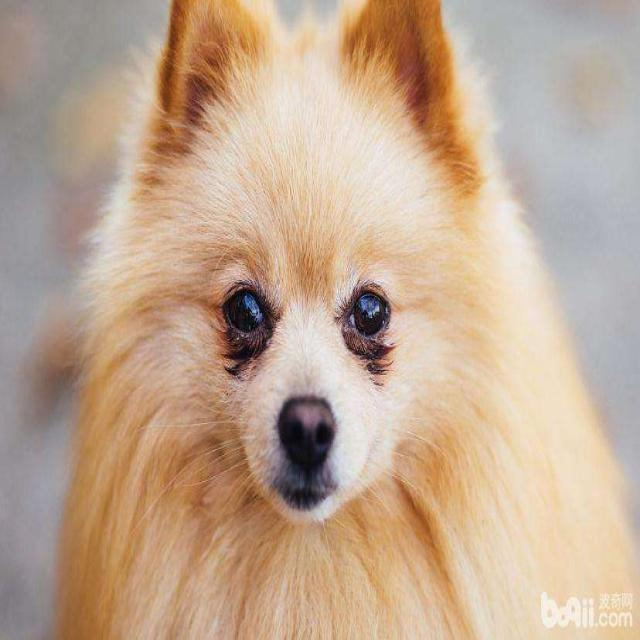eye: (339, 279, 394, 345), (218, 278, 273, 342)
